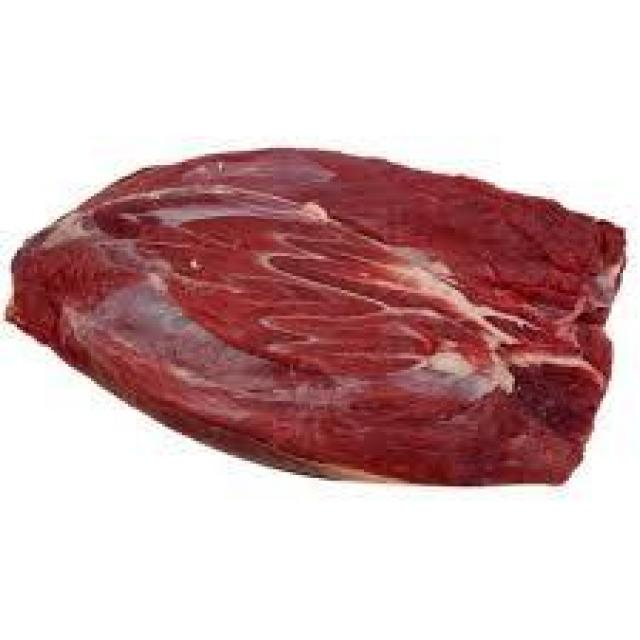Beef: (19, 85, 632, 530)
